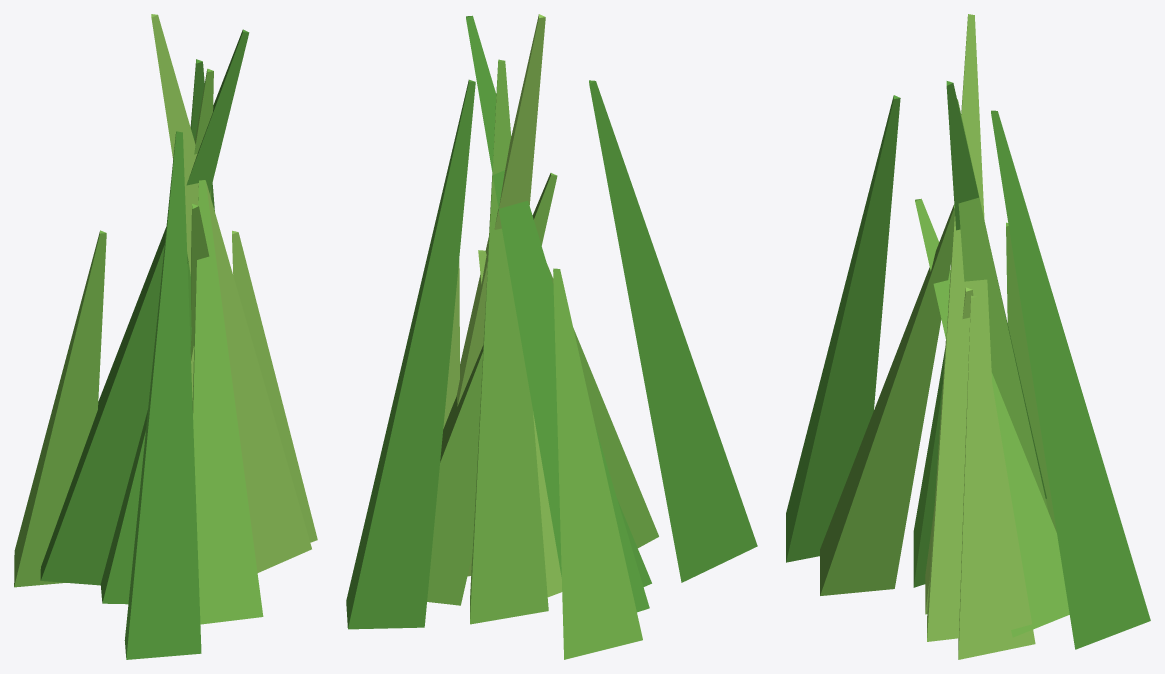
File: prop_grass_tuft_v01.glb
The picture shows the model from 3 angles, left to right: view 1: azimuth 30°, elevation 25°; view 2: azimuth 150°, elevation 25°; view 3: azimuth 270°, elevation 25°; orthographic projection. The views are drawn at different scales.
Parts seen in each view (by area): view 1: prop_grass_tuft_v01; view 2: prop_grass_tuft_v01; view 3: prop_grass_tuft_v01.
Boxes of the visible parts, <box> form: prop_grass_tuft_v01: <box>14,14,317,659</box>; prop_grass_tuft_v01: <box>346,14,757,659</box>; prop_grass_tuft_v01: <box>786,14,1150,659</box>.
Size of the model in its own units: 0.2842 by 0.5585 by 0.3194.
